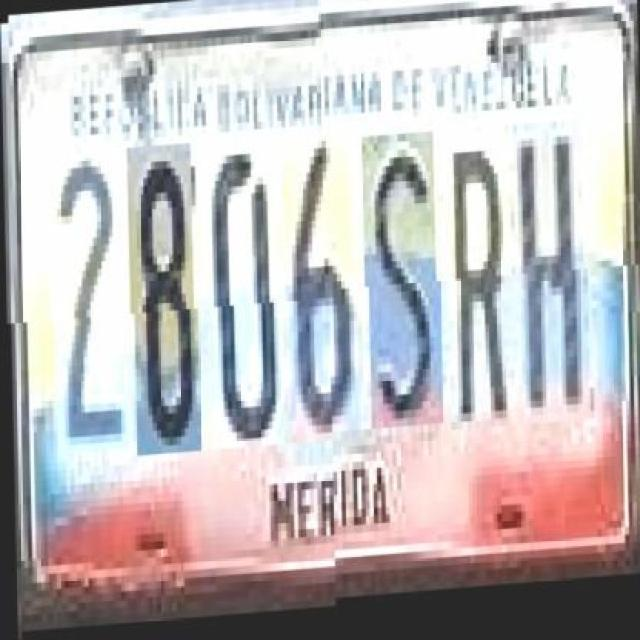0: (205, 140, 282, 445)
2: (50, 142, 127, 447)
6: (284, 135, 358, 440)
8: (130, 138, 199, 450)
h: (516, 129, 590, 433)
r: (444, 140, 518, 438)
s: (364, 138, 442, 434)
